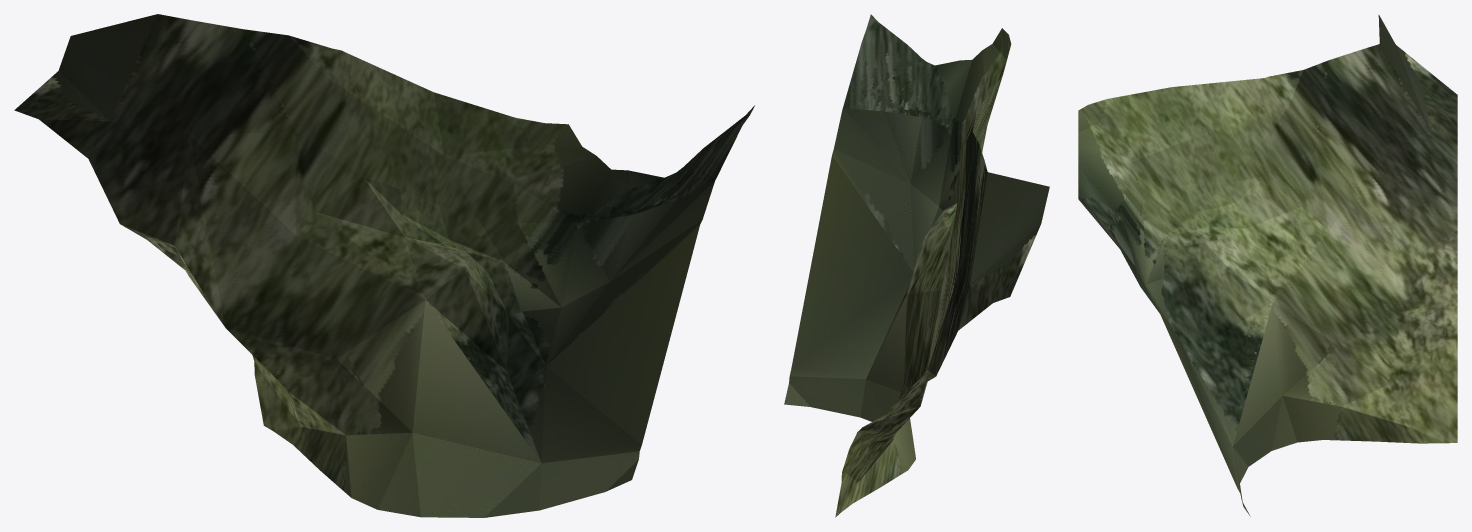
The picture shows the model from 3 angles, left to right: view 1: azimuth 30°, elevation 25°; view 2: azimuth 150°, elevation 25°; view 3: azimuth 270°, elevation 25°; orthographic projection. The views are drawn at different scales.
Size of the model in its own units: 5.9 by 5.9 by 5.9.
3 materials, 3 textured.
